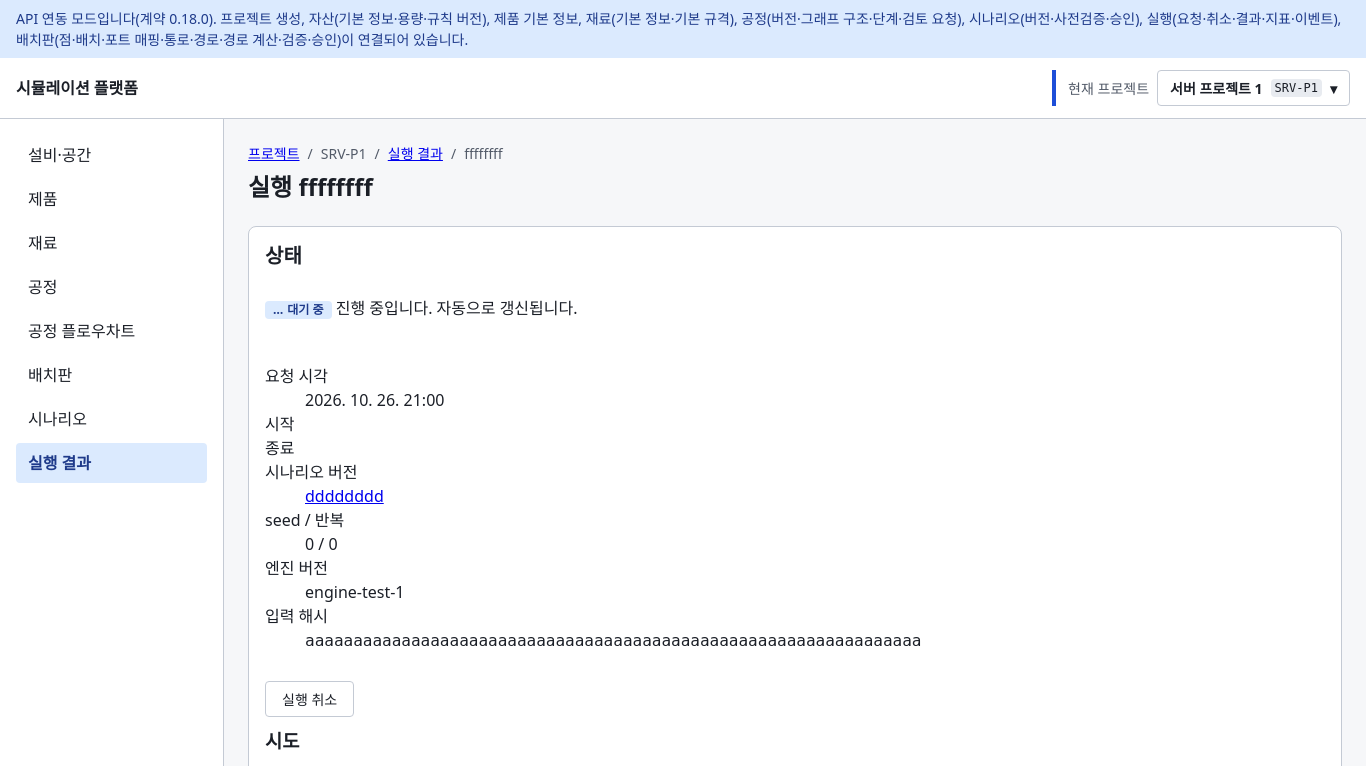
API 모드: 실행 취소 › 대기 중인 실행은 확인 후 바로 취소됨이 된다
Click the button "실행 취소" at (310, 699), box [265, 681, 354, 717]
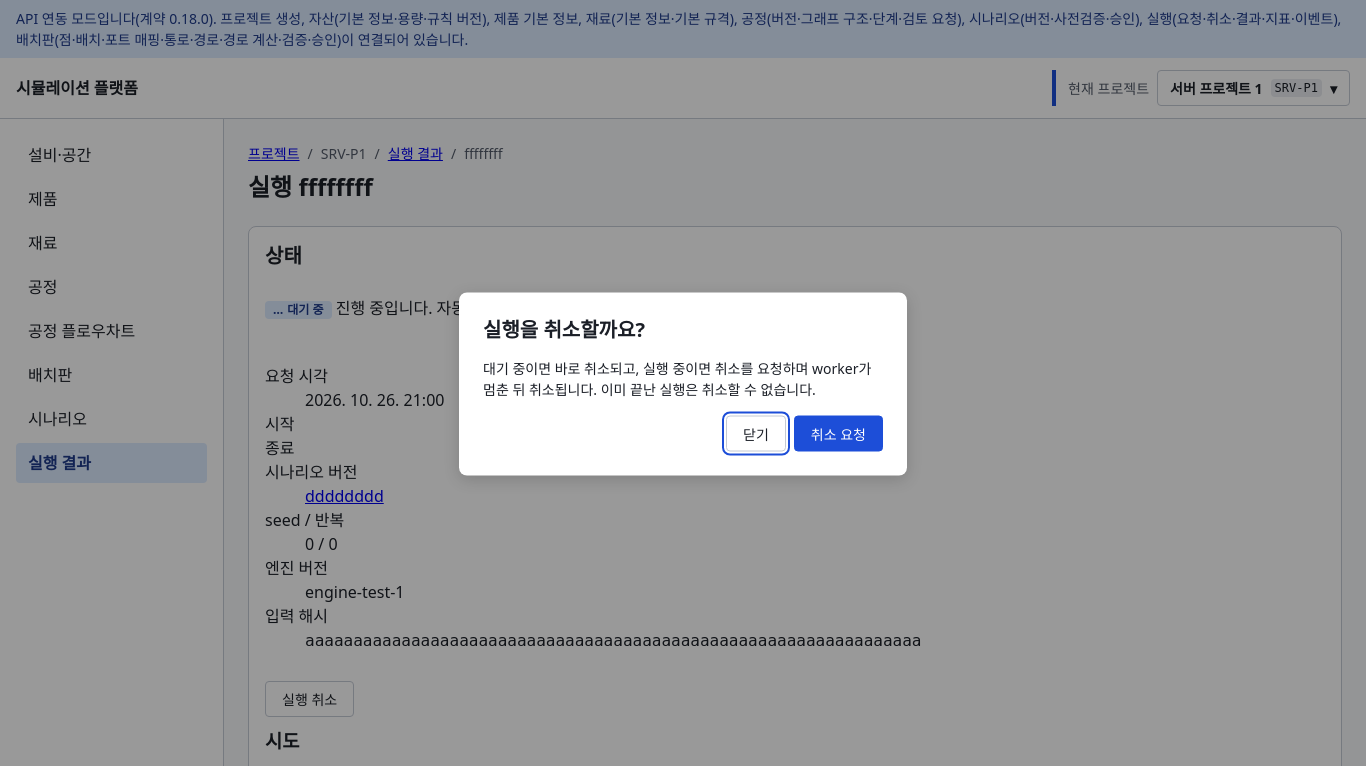
Click the button "취소 요청" at (838, 434), box [794, 416, 883, 452]
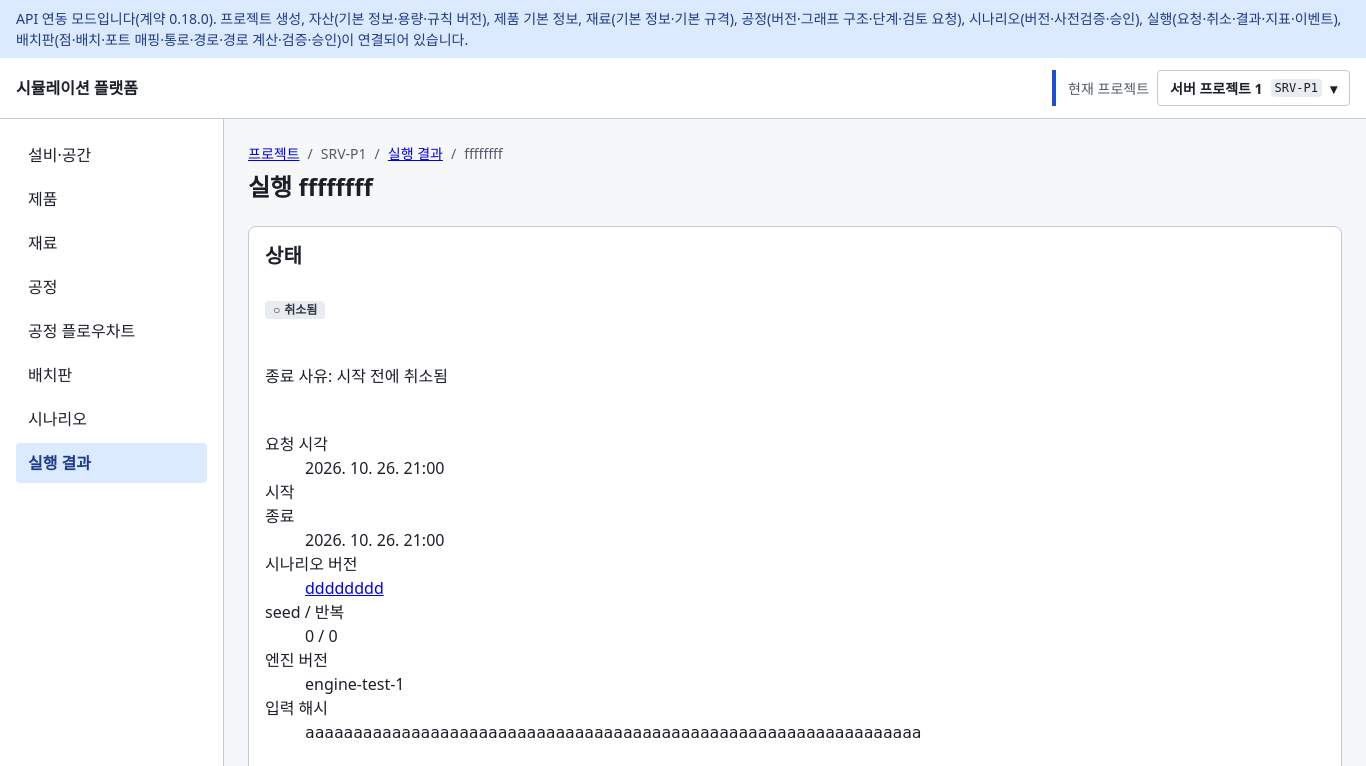
Check: the text "취소됨" is shown, box [284, 301, 317, 318]
Check: the text "종료 사유: 시작 전에 취소됨" is shown, box [265, 365, 448, 387]
